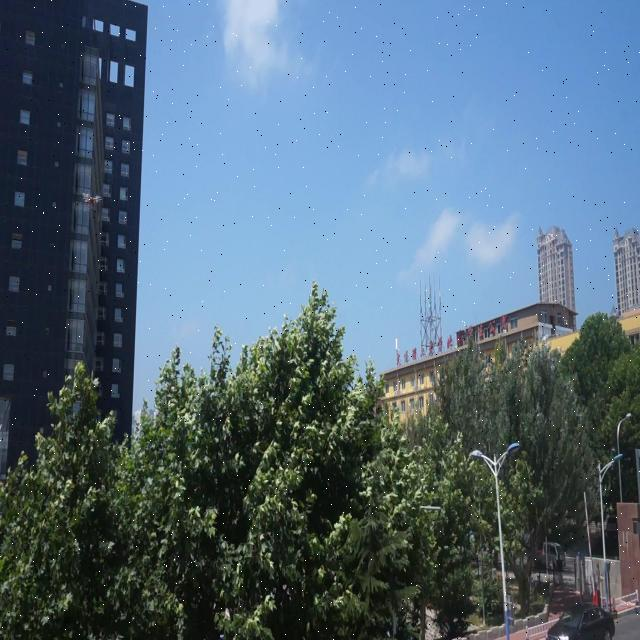UAV: (82, 193, 103, 210)
